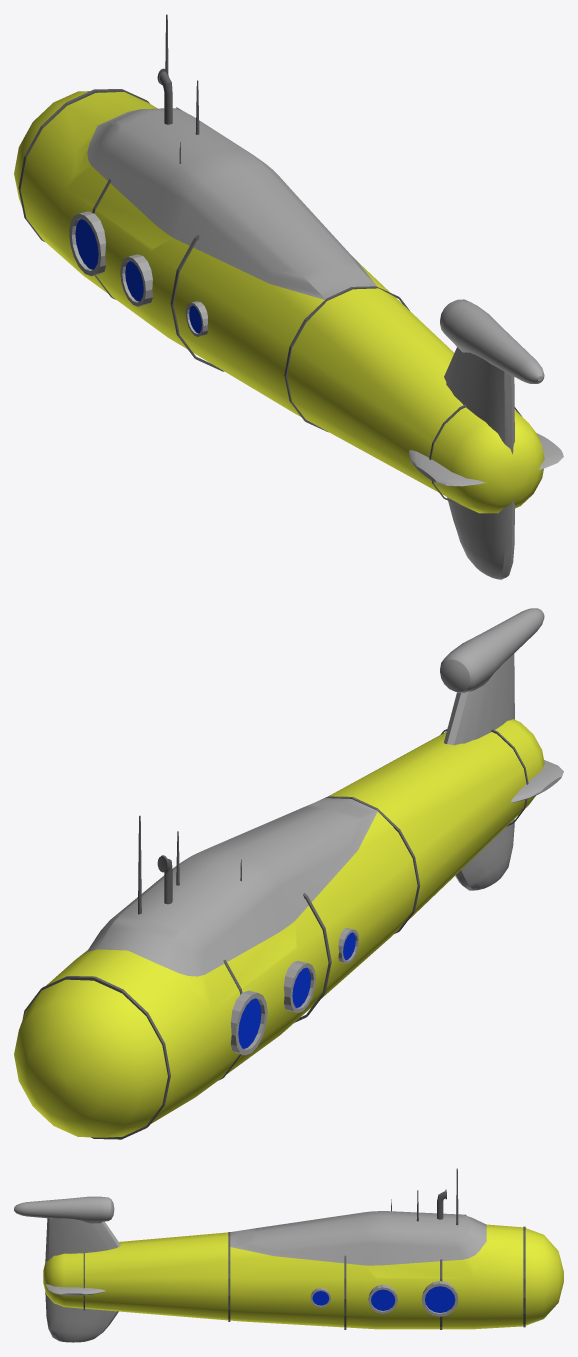
File: subMarine.fbx
3 renders of one model, top to bottom at view 1: azimuth 30°, elevation 25°; view 2: azimuth 150°, elevation 25°; view 3: azimuth 270°, elevation 25°, orthographic. The views are drawn at different scales.
Visible parts, largest first — view 1: Cylinder.003; view 2: Cylinder.003; view 3: Cylinder.003.
Boxes of the visible parts, x1,y1,x2,y2 form: Cylinder.003: [14, 14, 563, 579]; Cylinder.003: [14, 608, 563, 1139]; Cylinder.003: [14, 1168, 563, 1342].
Size of the model in its own units: 215 by 369 by 1049.
